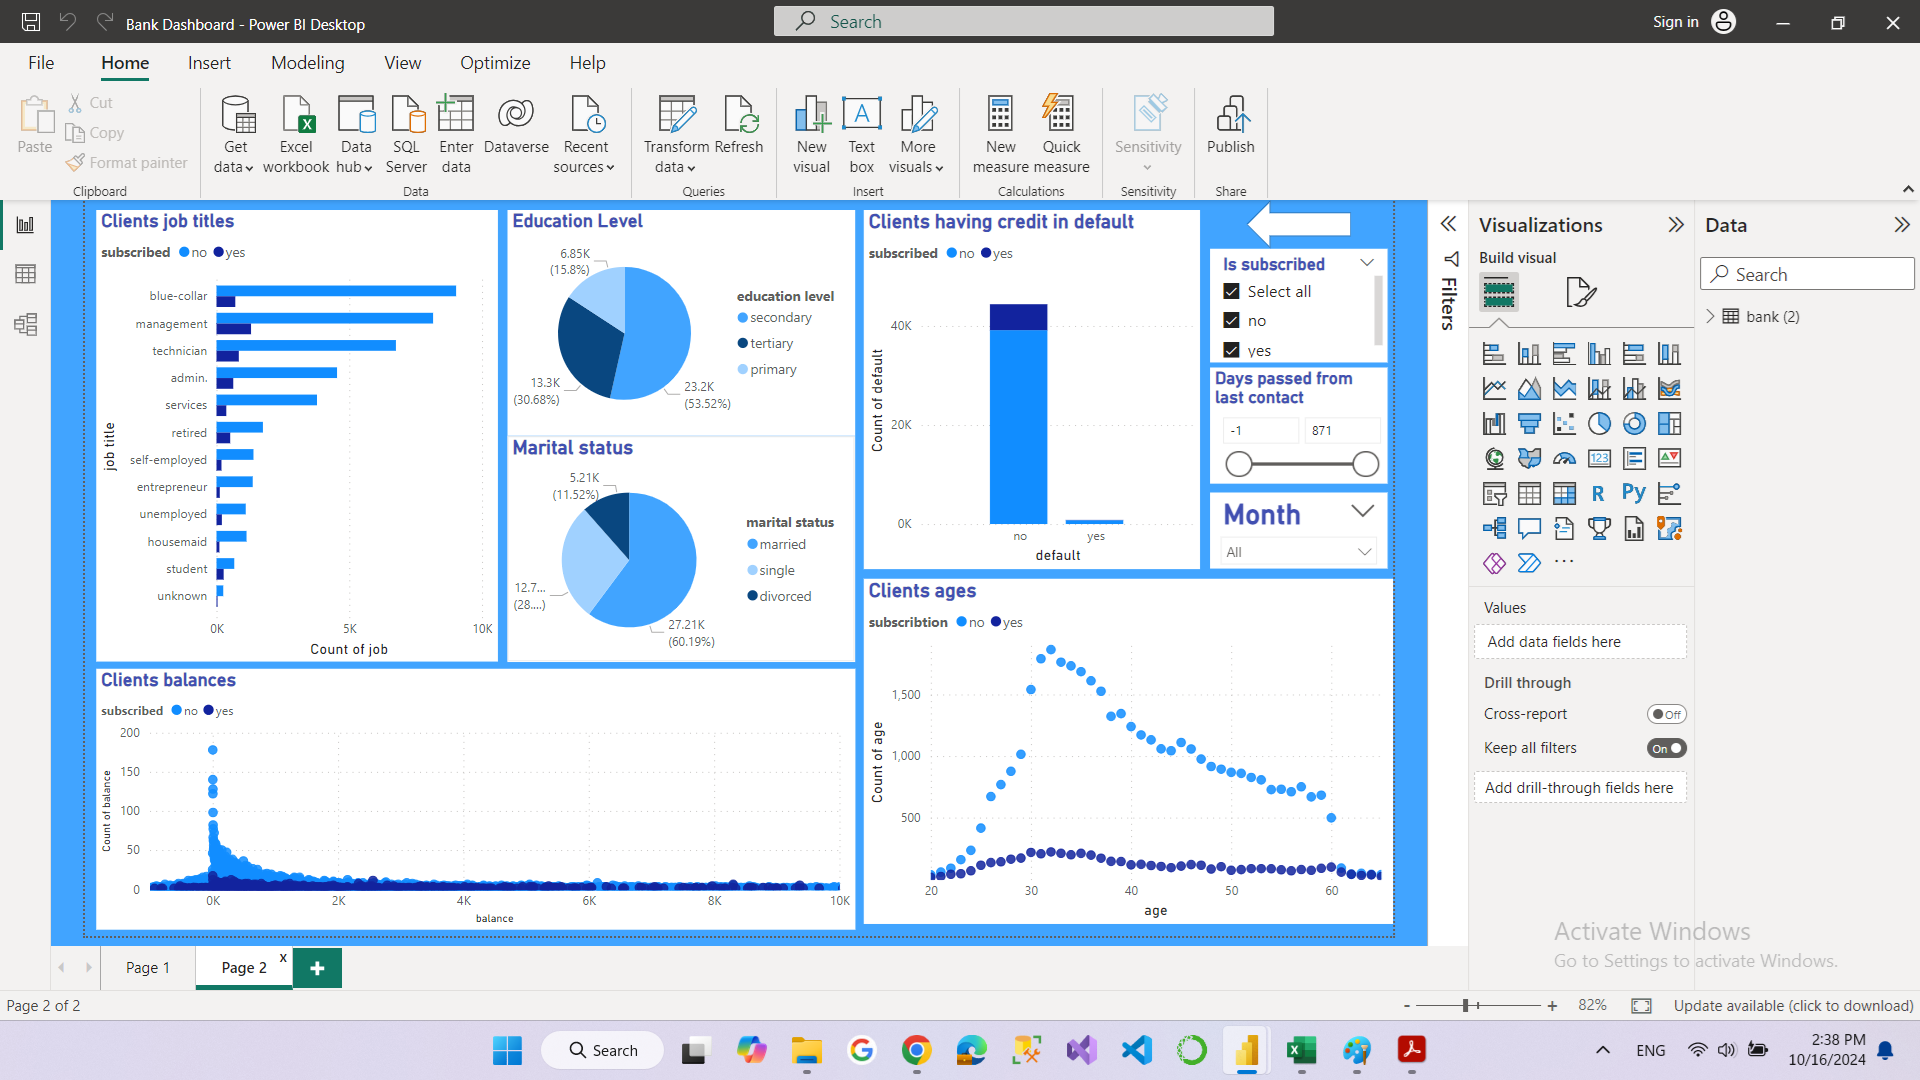

The dashboard page shown, as its layout file describes it:
{"tool":"powerbi","page":{"name":"Page 2","canvas":[1280,720],"ordinal":1},"visuals":[{"type":"pieChart","title":"Marital status","fields":{"Category":["bank (2).marital"],"Y":["CountNonNull(bank (2).subscribed)"]},"box":[413,230.5,340.3,220.9],"z":0},{"type":"pieChart","title":"Education Level","fields":{"Category":["bank (2).education"],"Y":["CountNonNull(bank (2).subscribed)"]},"box":[413,9.6,340.3,220.9],"z":1000},{"type":"slicer","fields":{"Values":["bank (2).subscribed"]},"box":[1100.2,47.7,173.6,111.2],"z":2000},{"type":"slicer","title":"Days passed from last contact","fields":{"Values":["bank (2).pdays"]},"box":[1100.2,163.8,173.6,113.7],"z":3000},{"type":"slicer","fields":{"Values":["bank (2).month"]},"box":[1100.2,286,173.6,74.6],"z":4000},{"type":"scatterChart","title":"Clients ages","fields":{"X":["bank (2).age"],"Series":["bank (2).subscribed"],"Y":["CountNonNull(bank (2).age)"]},"box":[761.6,370.4,518.3,337.4],"z":5000},{"type":"scatterChart","title":"Clients balances","fields":{"Series":["bank (2).subscribed"],"X":["bank (2).balance"],"Y":["CountNonNull(bank (2).balance)"]},"box":[11,458.4,742,255.5],"z":6000},{"type":"clusteredBarChart","title":"Clients job titles","fields":{"Y":["CountNonNull(bank (2).job)"],"Category":["bank (2).job"],"Series":["bank (2).subscribed"]},"box":[11,9.6,392.5,441.9],"z":7000},{"type":"columnChart","title":"Clients having credit in default","fields":{"Y":["CountNonNull(bank (2).default)"],"Series":["bank (2).subscribed"],"Category":["bank (2).default"]},"box":[761.6,9.8,328.8,350.8],"z":8000},{"type":"shape","box":[1135.6,0,102.7,47.7],"z":9000}]}

Visuals, with their boxes on the page's 1280x720 design canvas (x1, y1, x2, y2). These are canvas units, not pixel positions in the 1920x1080 screenshot, which may show the page scaled, cropped or inside an application window:
"Marital status" pieChart: [413,230,753,451]
"Education Level" pieChart: [413,10,753,230]
slicer - bank (2).subscribed: [1100,48,1274,159]
"Days passed from last contact" slicer: [1100,164,1274,278]
slicer - bank (2).month: [1100,286,1274,361]
"Clients ages" scatterChart: [762,370,1280,708]
"Clients balances" scatterChart: [11,458,753,714]
"Clients job titles" clusteredBarChart: [11,10,404,452]
"Clients having credit in default" columnChart: [762,10,1090,361]
shape: [1136,0,1238,48]
